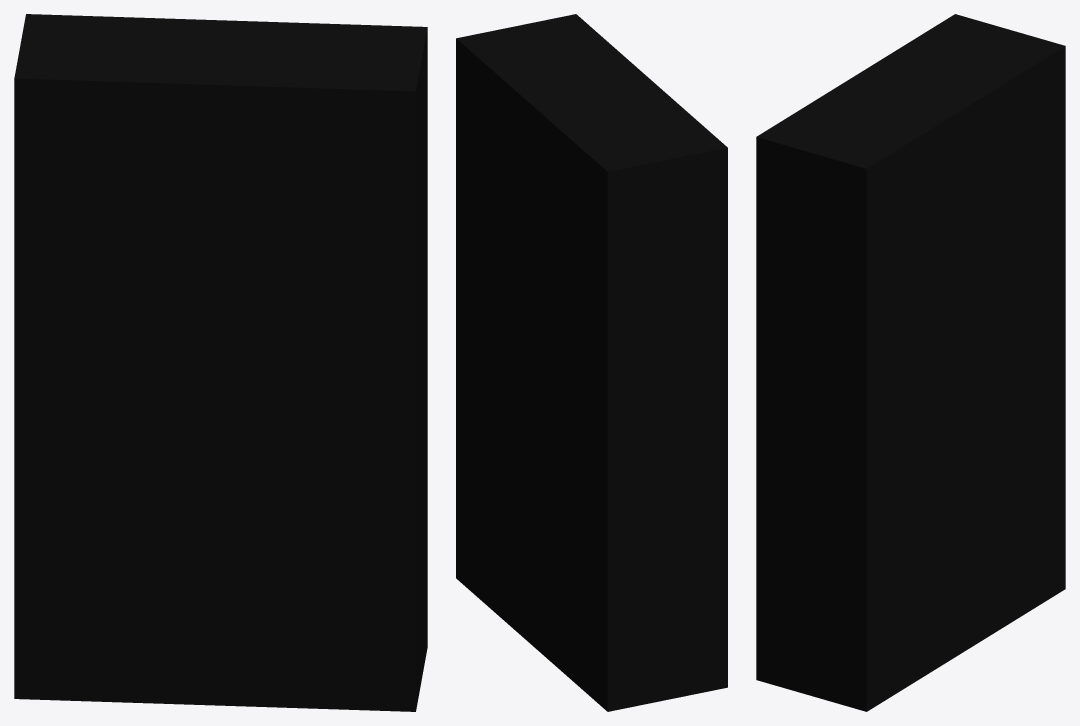
The model's file is support_arm__arm_head.glb.
3 views of the same model, side by side, from view 1: azimuth 30°, elevation 25°; view 2: azimuth 150°, elevation 25°; view 3: azimuth 270°, elevation 25° (orthographic). The views are drawn at different scales.
Visible parts, largest first — view 1: world; view 2: world; view 3: world.
Part boxes in pixels (left/top/right/bottom): world: left=14, top=14, right=427, bottom=711; world: left=456, top=14, right=727, bottom=711; world: left=756, top=14, right=1065, bottom=711.
Size of the model in its own units: 0.104 by 0.17 by 0.0878.
Materials: 1 (1 with a texture image).
